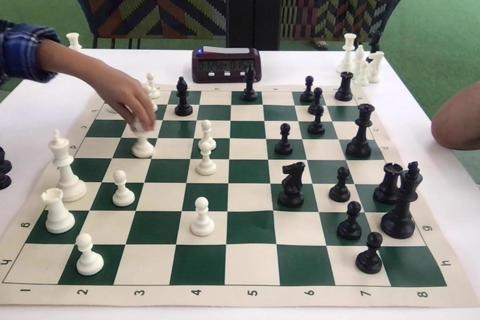xcorner: (289, 99, 302, 112), (161, 98, 174, 111), (187, 132, 200, 145), (306, 178, 319, 191), (95, 176, 108, 189), (321, 100, 334, 112), (257, 99, 270, 111), (225, 99, 238, 111), (193, 99, 206, 111), (293, 115, 305, 128), (191, 114, 203, 127), (156, 114, 169, 126), (122, 114, 135, 126), (297, 133, 309, 146), (260, 133, 273, 145), (340, 155, 353, 167), (301, 154, 314, 166), (223, 153, 235, 166), (106, 152, 118, 165), (264, 178, 277, 190), (358, 207, 371, 219), (313, 206, 325, 219), (175, 205, 187, 218), (370, 240, 382, 253), (219, 239, 232, 251), (169, 239, 182, 251), (119, 238, 131, 251), (129, 98, 141, 110), (327, 116, 339, 128), (259, 115, 271, 127), (225, 115, 237, 127), (333, 134, 345, 146), (224, 133, 236, 145), (151, 132, 163, 144), (115, 132, 127, 144), (262, 154, 274, 166), (184, 153, 196, 165), (145, 153, 157, 165), (349, 179, 361, 191), (222, 178, 234, 190), (180, 177, 192, 189), (138, 177, 150, 189), (267, 206, 279, 218), (221, 206, 233, 218), (129, 205, 141, 217), (83, 205, 95, 217), (320, 240, 332, 252), (270, 240, 282, 252), (69, 238, 81, 250)
